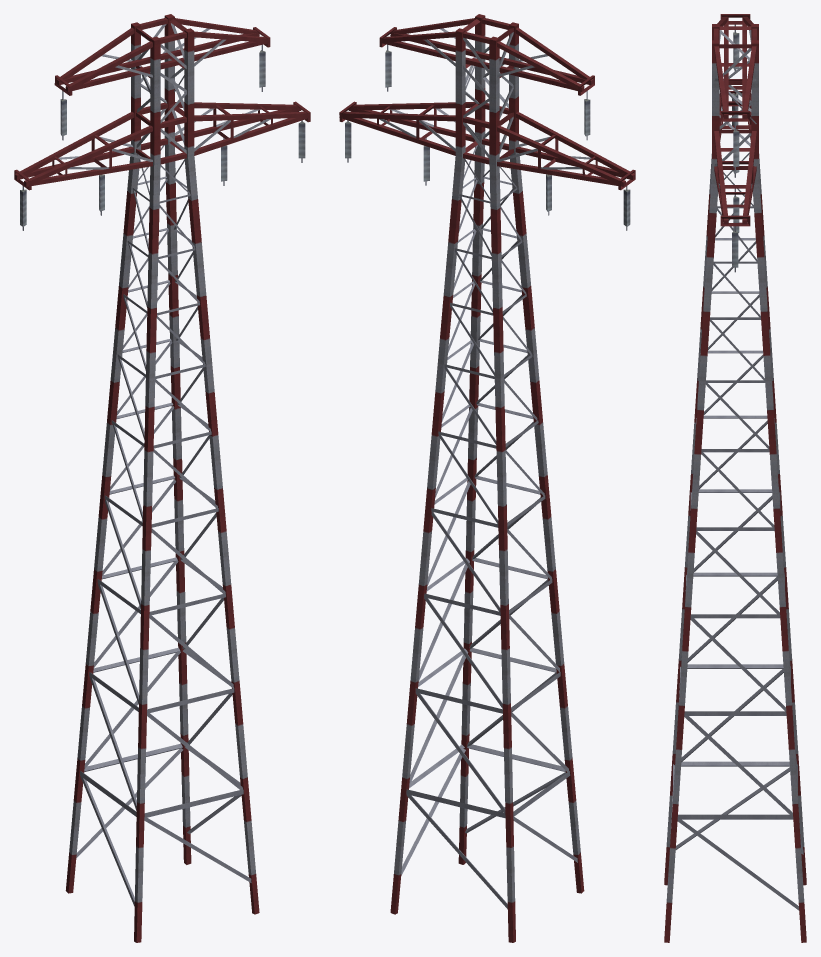
The model's file is Powerline_Pole.glb.
The picture shows the model from 3 angles, left to right: view 1: azimuth 30°, elevation 25°; view 2: azimuth 150°, elevation 25°; view 3: azimuth 270°, elevation 25°; orthographic projection.
Visible parts, largest first — view 1: Powerline_Pole__LOD3; view 2: Powerline_Pole__LOD3; view 3: Powerline_Pole__LOD3.
Part boxes in pixels (x1,y1,x2,y2): Powerline_Pole__LOD3: (14, 14, 310, 942); Powerline_Pole__LOD3: (339, 14, 635, 942); Powerline_Pole__LOD3: (664, 14, 806, 942).
Size of the model in its own units: 2.11 by 6.19 by 0.9094.
1 material, 1 textured.
